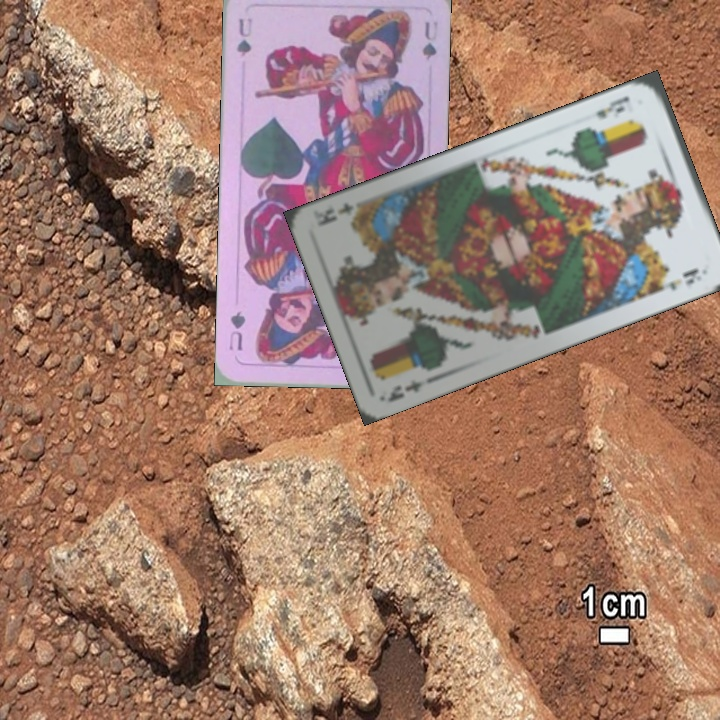EK: (384, 372, 437, 405), (592, 92, 632, 122)
GU: (233, 14, 254, 59)
